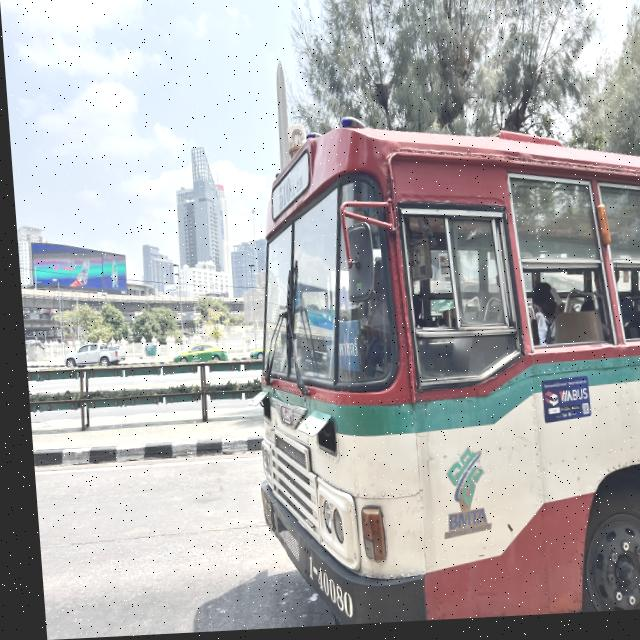BMTA-bus: (231, 110, 640, 631)
Bus-Line-Number: (269, 159, 305, 217)
Destination-Sign-Normal: (316, 323, 358, 376)
